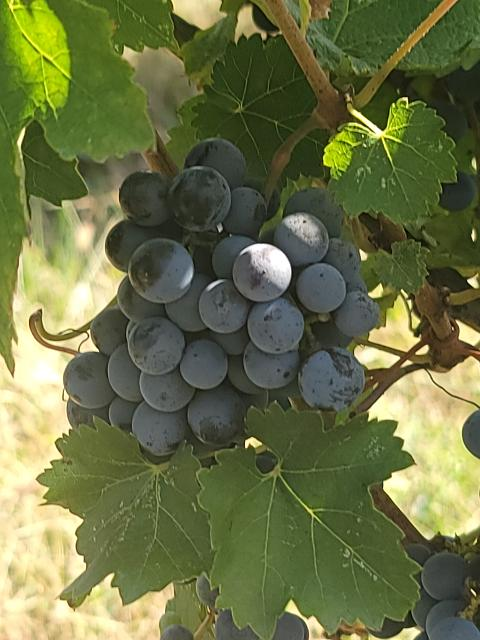grapes: (65, 139, 379, 468)
